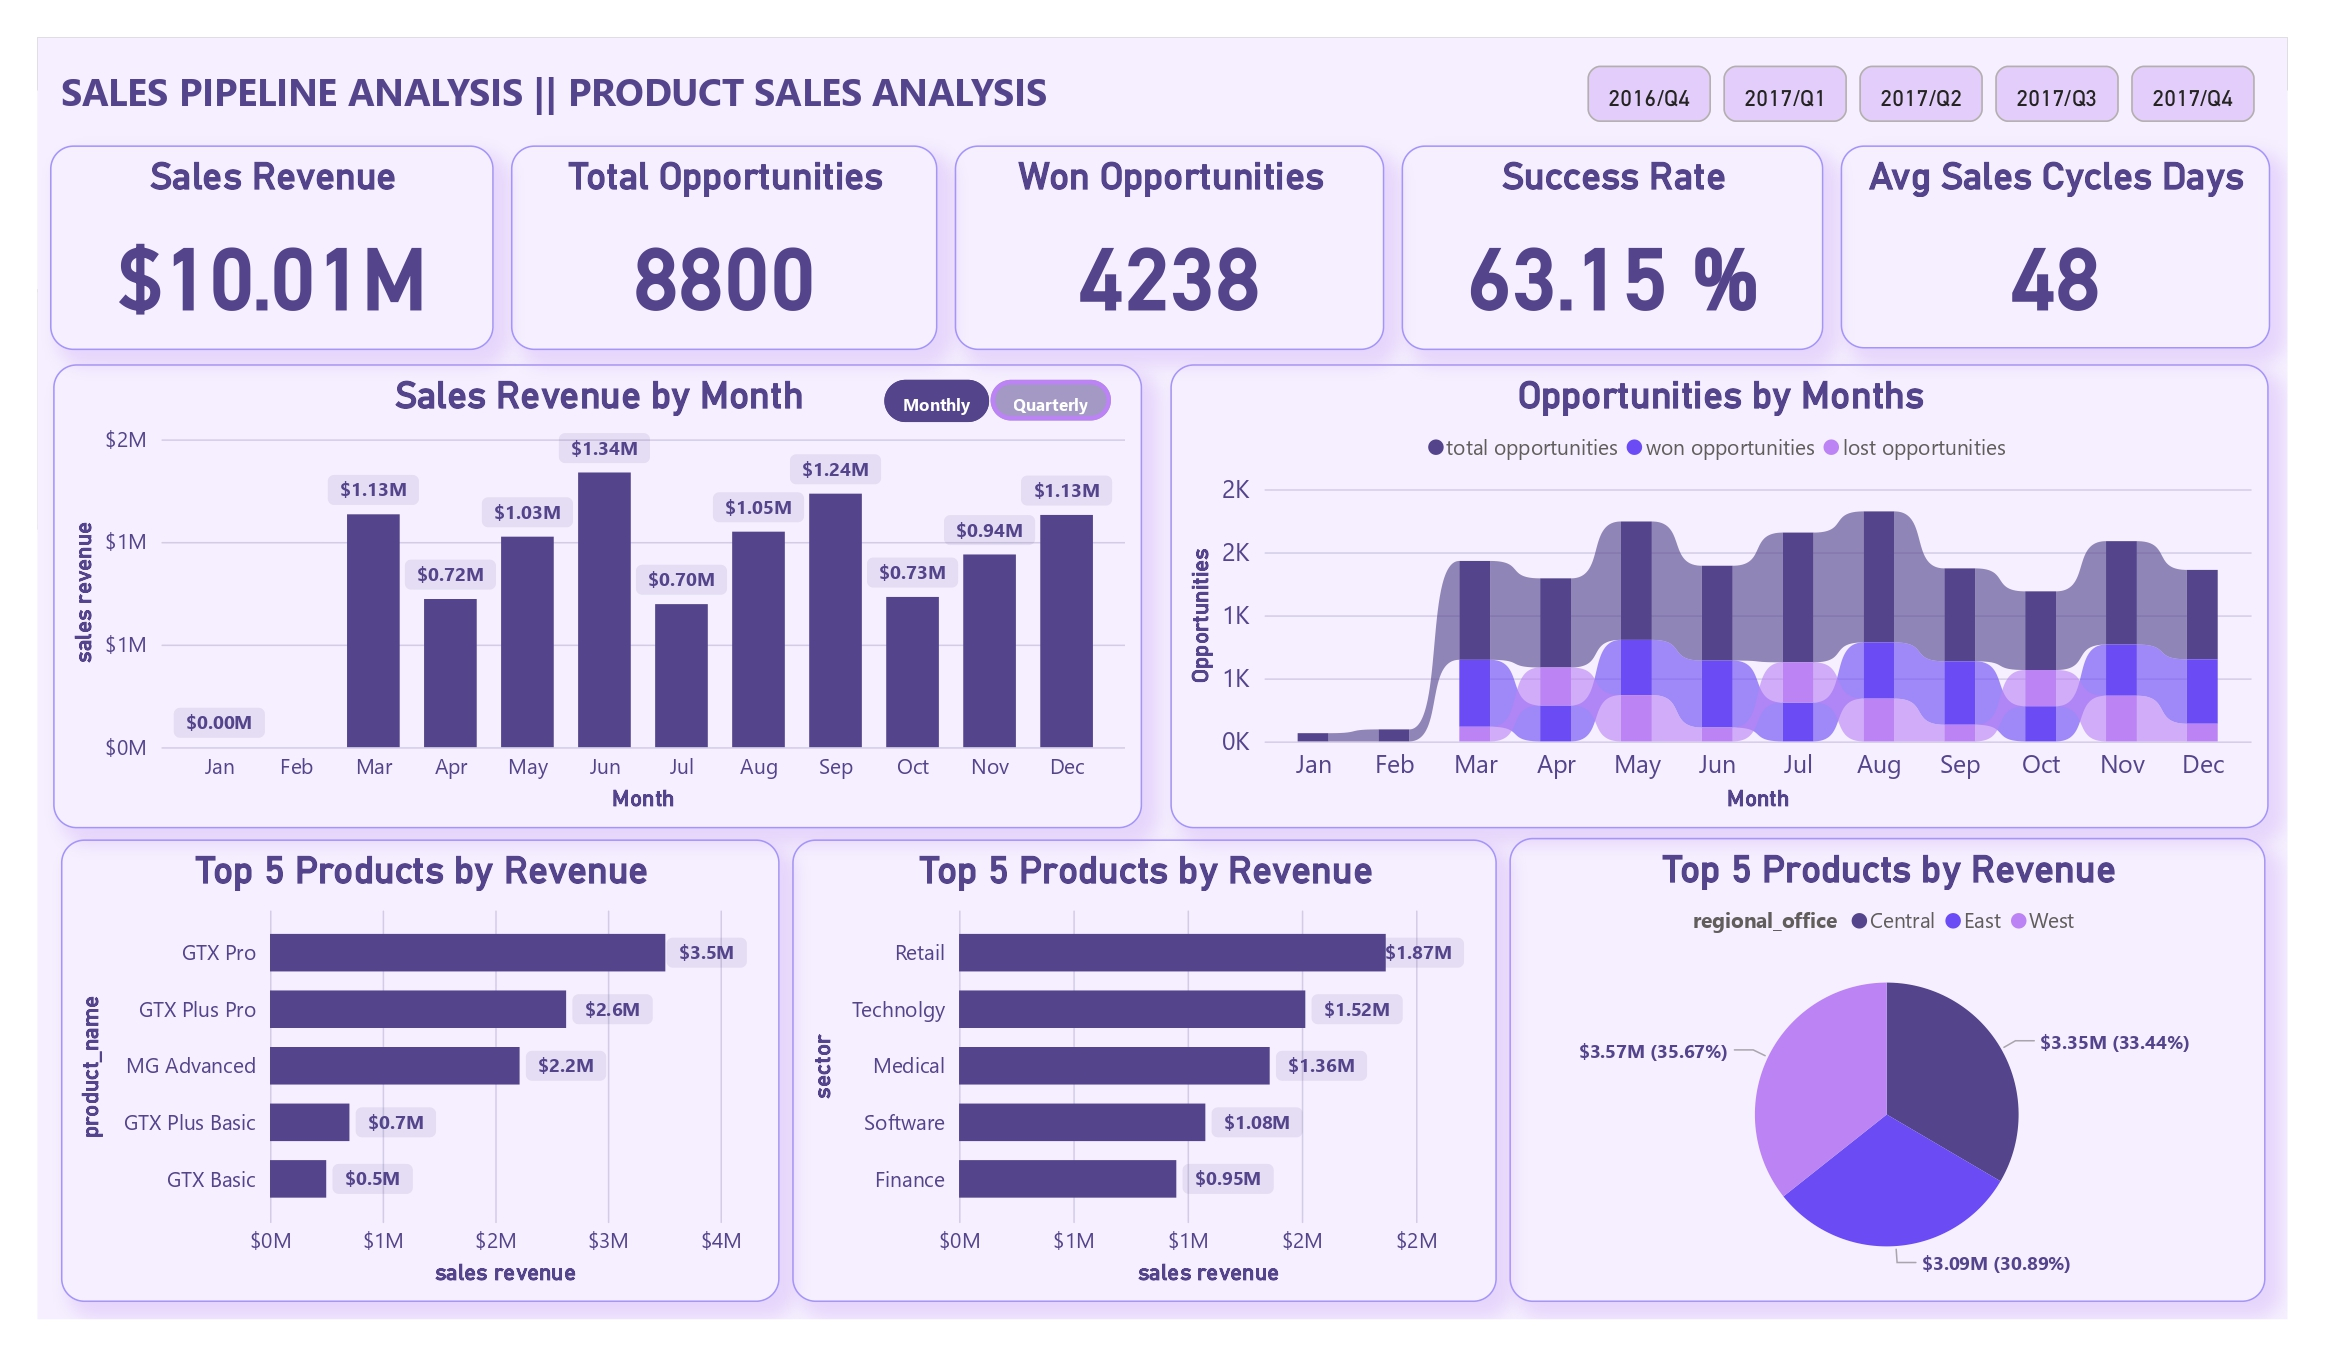

The page's visual inventory and layout, read from the dashboard file:
{"tool":"powerbi","page":{"name":"Overview","canvas":[1440,820],"ordinal":0},"visuals":[{"type":"group","id":"g1","title":"Quarter","box":[11.7,208.3,1413.3,298.3],"z":0},{"type":"columnChart","title":"Sales Revenue by Quarter","fields":{"Y":["_Measures.sales revenue"],"Category":["calendar.Quarter"]},"box":[11.7,208.3,696.7,296.7],"z":0,"group":"g1"},{"type":"ribbonChart","title":"Opportunities by Quarters","fields":{"Category":["calendar.Quarter"],"Y":["_Measures.total opportunities","_Measures.won opportunities","_Measures.lost opportunities"]},"box":[721.7,210,703.3,296.7],"z":1000,"group":"g1"},{"type":"card","title":"Sales Revenue","fields":{"Values":["_Measures.sales revenue"]},"box":[8,69.3,284,130.4],"z":2000},{"type":"card","title":"Total Opportunities","fields":{"Values":["_Measures.total opportunities"]},"box":[303,69.3,273.2,130.4],"z":3000},{"type":"card","title":"Won Opportunities","fields":{"Values":["_Measures.won opportunities"]},"box":[587.2,69.3,274.7,130.4],"z":4000},{"type":"card","title":"Success Rate","fields":{"Values":["_Measures.success rate"]},"box":[872.9,69.3,270.1,130.4],"z":5000},{"type":"card","title":"Avg Sales Cycles Days","fields":{"Values":["_Measures.avg sales cycle duration"]},"box":[1154,69.3,275,130],"z":6000},{"type":"clusteredBarChart","title":"Top 5 Products by Revenue","fields":{"Category":["products.product_name"],"Y":["_Measures.sales revenue"]},"box":[15.3,512.7,460,296.7],"z":7000},{"type":"pieChart","title":"Top 5 Products by Revenue","fields":{"Category":["sales_teams.regional_office"],"Y":["_Measures.sales revenue"]},"box":[942.2,512.2,483.3,296.7],"z":8000},{"type":"clusteredBarChart","title":"Top 5 Products by Revenue","fields":{"Y":["_Measures.sales revenue"],"Category":["accounts.sector"]},"box":[482.8,512.7,451.7,296.7],"z":9000},{"type":"textbox","box":[10,12.5,652.5,46.2],"z":10000},{"type":"actionButton","title":"Monthly Disable","box":[540.5,219.5,67.3,26.4],"z":11000},{"type":"actionButton","title":"Quarter Enable","box":[609.7,219.1,77.3,26.4],"z":12000},{"type":"advancedSlicerVisual","title":"slicer","fields":{"Values":["calendar.Year Quarter"]},"box":[987,13,440,46],"z":13000}]}

Visuals, with their boxes on the page's 1440x820 design canvas (x1, y1, x2, y2). These are canvas units, not pixel positions in the 2325x1357 screenshot, which may show the page scaled, cropped or inside an application window:
"Quarter" group: {"left": 12, "top": 208, "right": 1425, "bottom": 507}
"Sales Revenue by Quarter" columnChart: {"left": 12, "top": 208, "right": 708, "bottom": 505}
"Opportunities by Quarters" ribbonChart: {"left": 722, "top": 210, "right": 1425, "bottom": 507}
"Sales Revenue" card: {"left": 8, "top": 69, "right": 292, "bottom": 200}
"Total Opportunities" card: {"left": 303, "top": 69, "right": 576, "bottom": 200}
"Won Opportunities" card: {"left": 587, "top": 69, "right": 862, "bottom": 200}
"Success Rate" card: {"left": 873, "top": 69, "right": 1143, "bottom": 200}
"Avg Sales Cycles Days" card: {"left": 1154, "top": 69, "right": 1429, "bottom": 199}
"Top 5 Products by Revenue" clusteredBarChart: {"left": 15, "top": 513, "right": 475, "bottom": 809}
"Top 5 Products by Revenue" pieChart: {"left": 942, "top": 512, "right": 1426, "bottom": 809}
"Top 5 Products by Revenue" clusteredBarChart: {"left": 483, "top": 513, "right": 934, "bottom": 809}
textbox: {"left": 10, "top": 12, "right": 662, "bottom": 59}
"Monthly Disable" actionButton: {"left": 540, "top": 220, "right": 608, "bottom": 246}
"Quarter Enable" actionButton: {"left": 610, "top": 219, "right": 687, "bottom": 246}
"slicer" advancedSlicerVisual: {"left": 987, "top": 13, "right": 1427, "bottom": 59}
